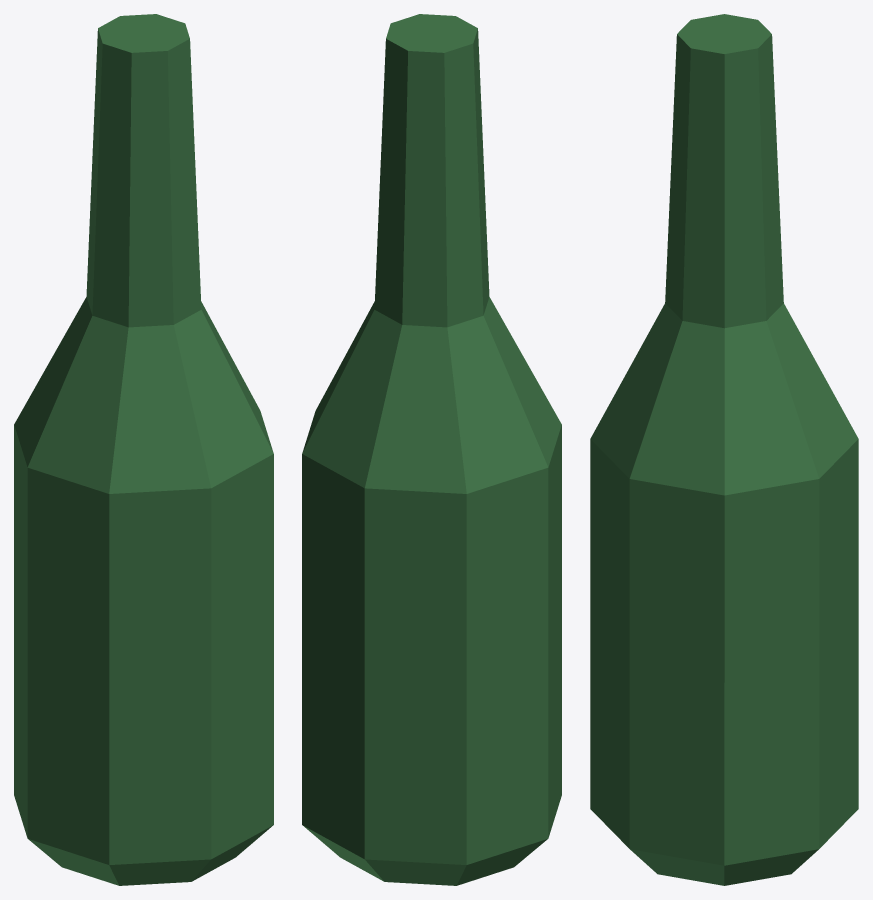
File: Botol.fbx
3 renders of one model, left to right at view 1: azimuth 30°, elevation 25°; view 2: azimuth 150°, elevation 25°; view 3: azimuth 270°, elevation 25°, orthographic.
Visible parts, largest first — view 1: Cylinder; view 2: Cylinder; view 3: Cylinder.
Boxes of the visible parts, x1,y1,x2,y2 form: Cylinder: (14, 14, 273, 885); Cylinder: (302, 14, 561, 885); Cylinder: (590, 14, 858, 885).
Bounding box in the file's own units: 11.43 × 38.19 × 11.43.
